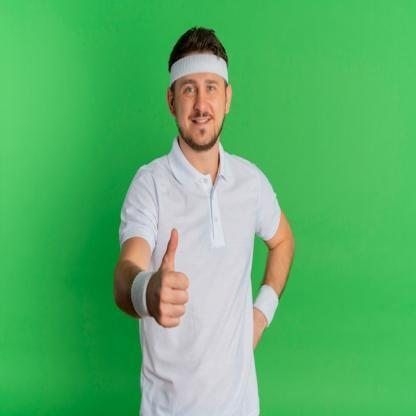thumb_up: (144, 224, 194, 334)
